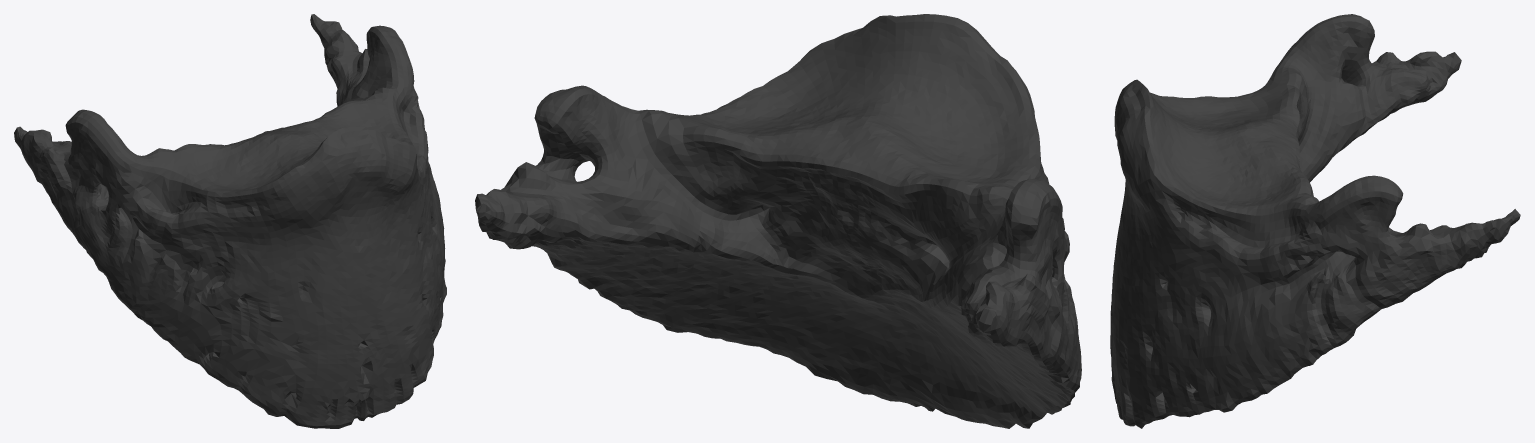
The model's file is phal_dist.glb.
The picture shows the model from 3 angles, left to right: view 1: azimuth 30°, elevation 25°; view 2: azimuth 150°, elevation 25°; view 3: azimuth 270°, elevation 25°; orthographic projection. The views are drawn at different scales.
Visible parts, largest first — view 1: phal_dist; view 2: phal_dist; view 3: phal_dist.
Boxes of the visible parts, x1,y1,x2,y2 form: phal_dist: [14, 14, 446, 428]; phal_dist: [475, 14, 1081, 428]; phal_dist: [1110, 14, 1520, 428].
Bounding box in the file's own units: 2.74 × 2.1 × 2.47.
1 material, 1 textured.
